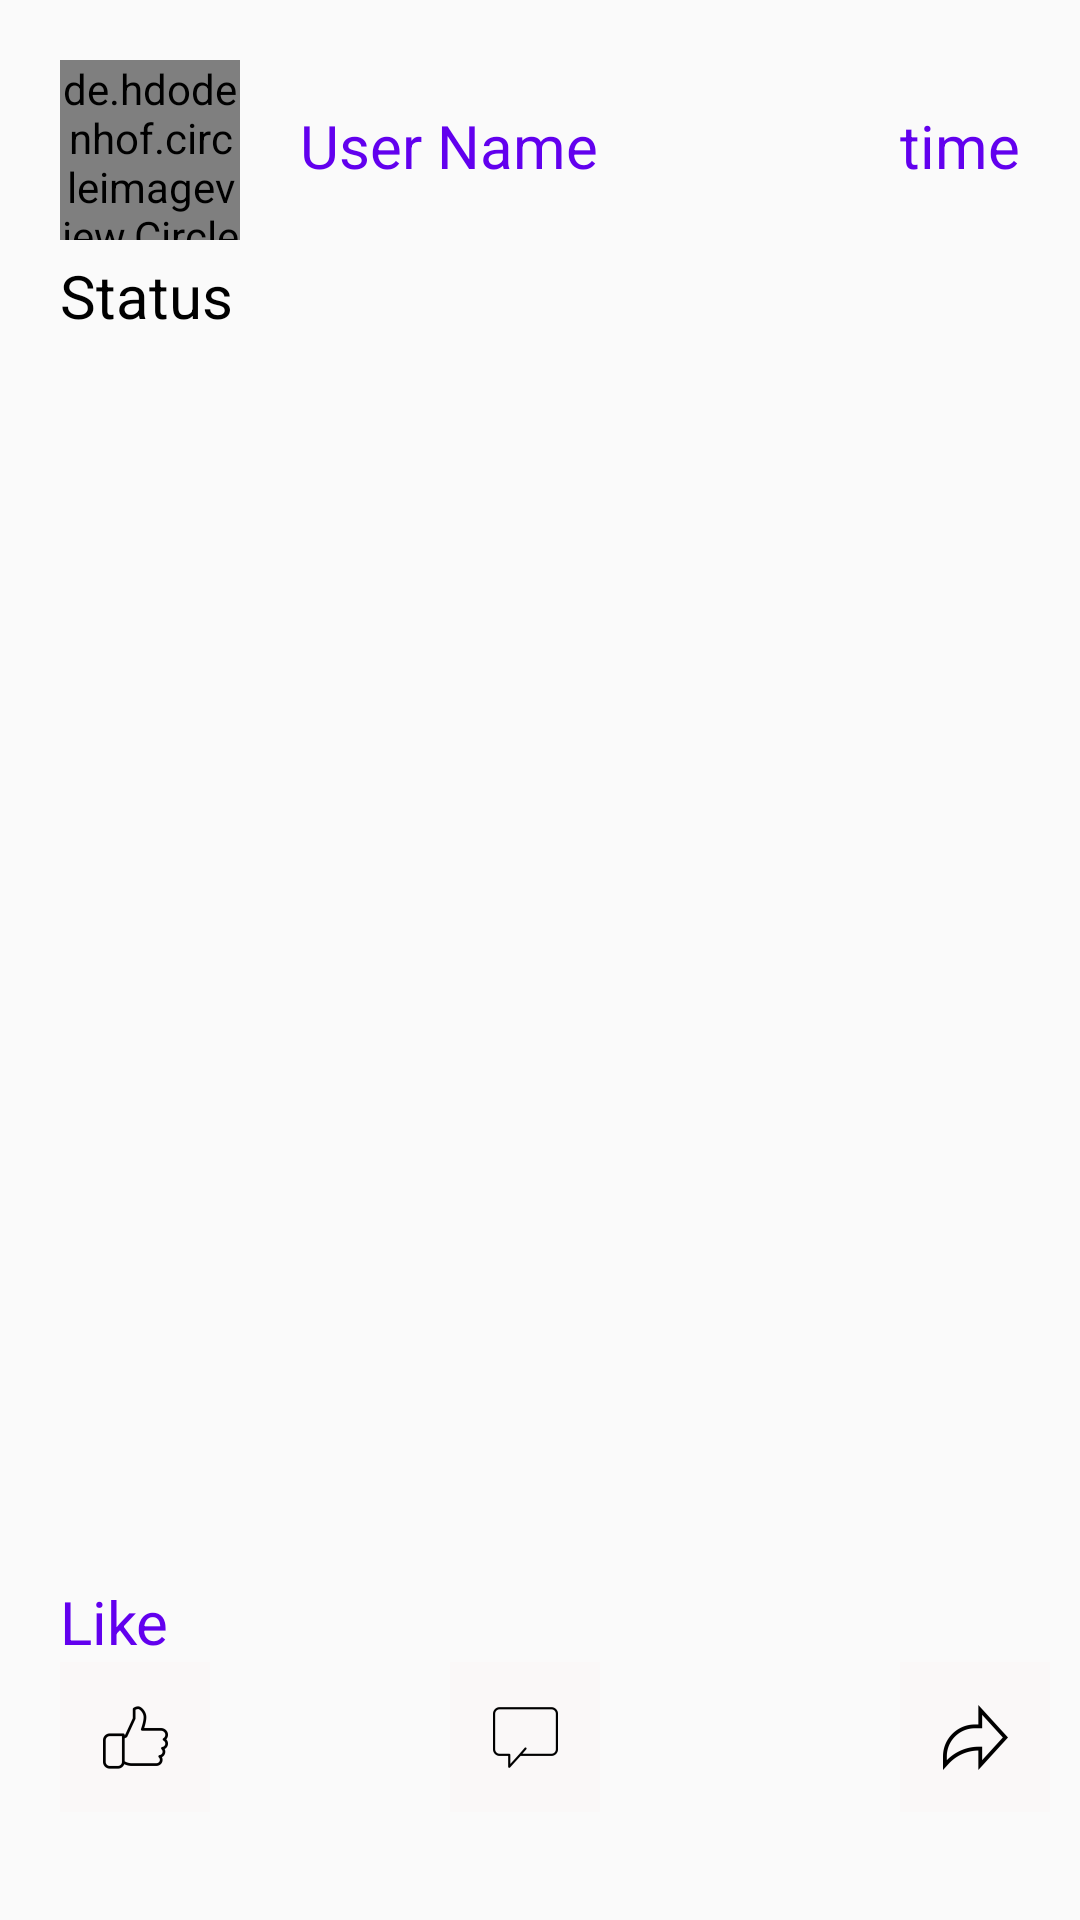

Icons on this 1080w x 1920h Android screen, each with its box as [x1, y1, x2, y2]:
comment: [493, 1707, 558, 1768]
share: [943, 1705, 1008, 1770]
